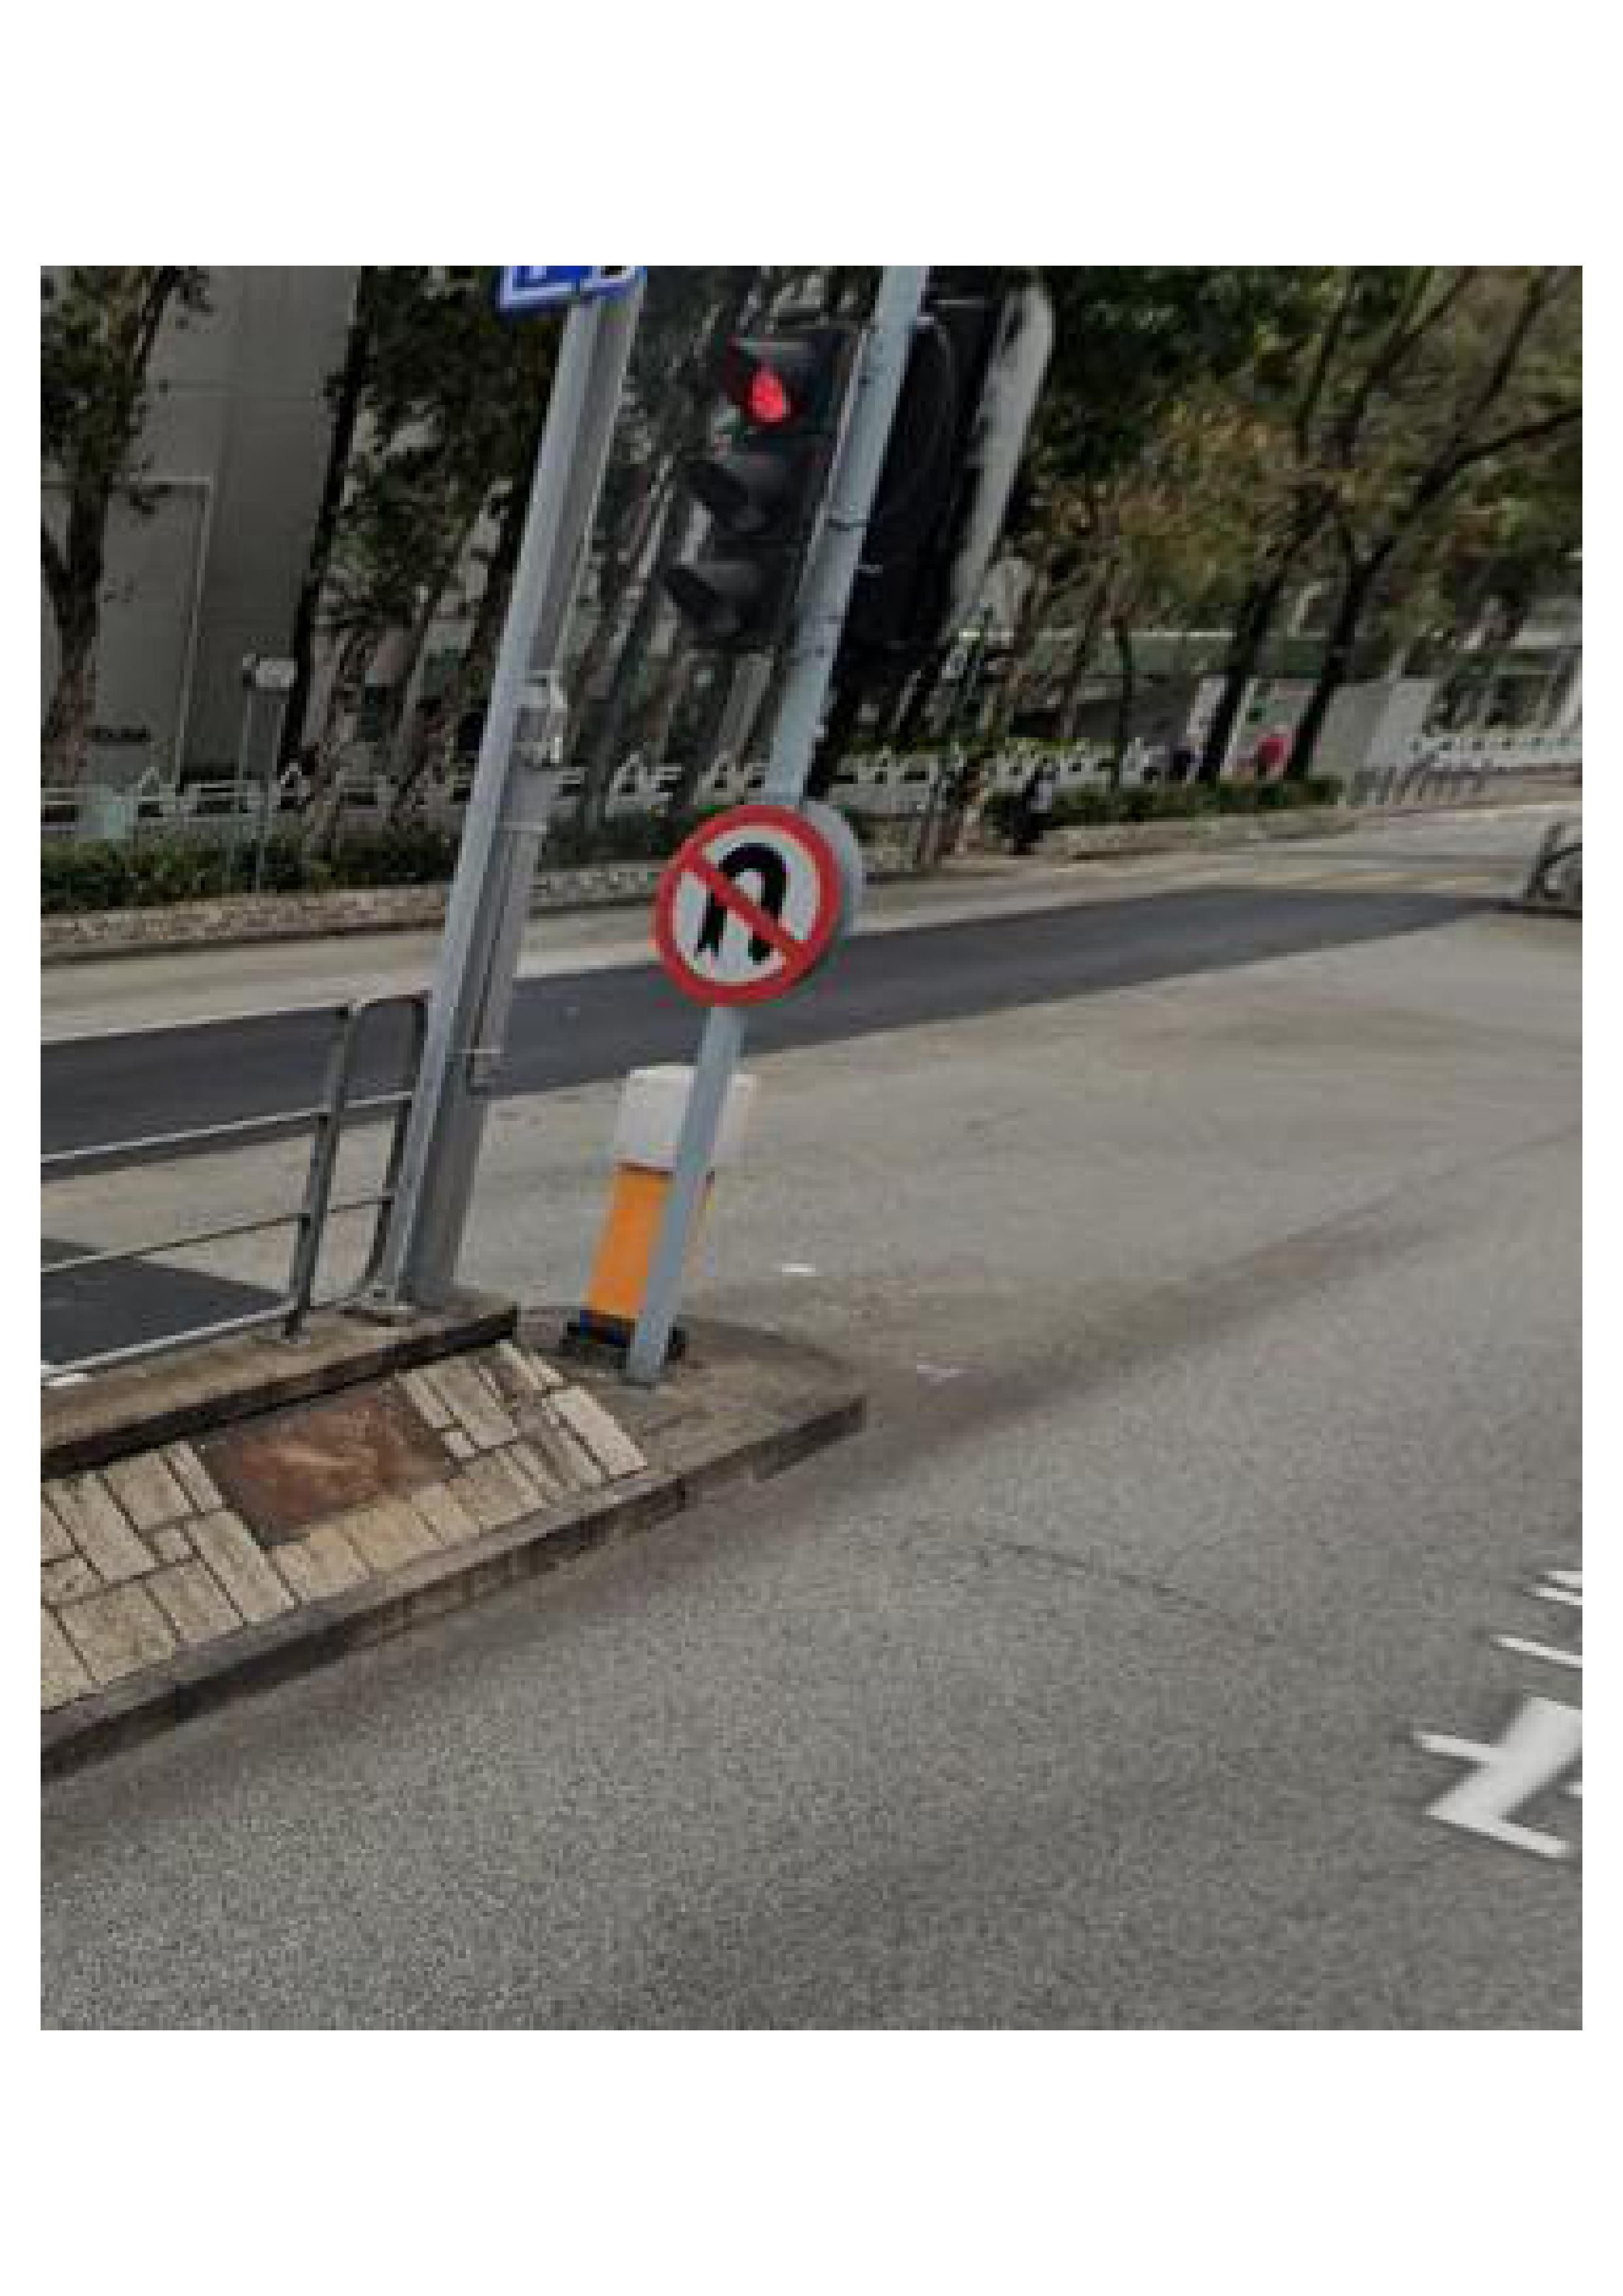No Uturn: (646, 786, 834, 1013)
